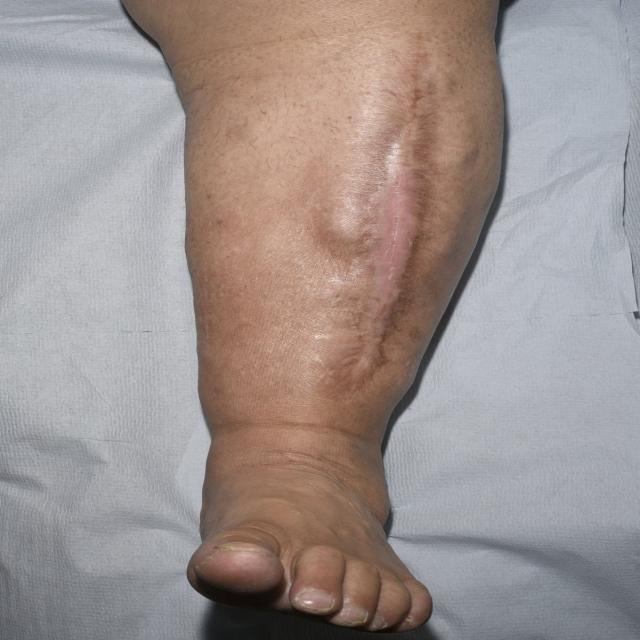wound: (347, 55, 439, 387)
